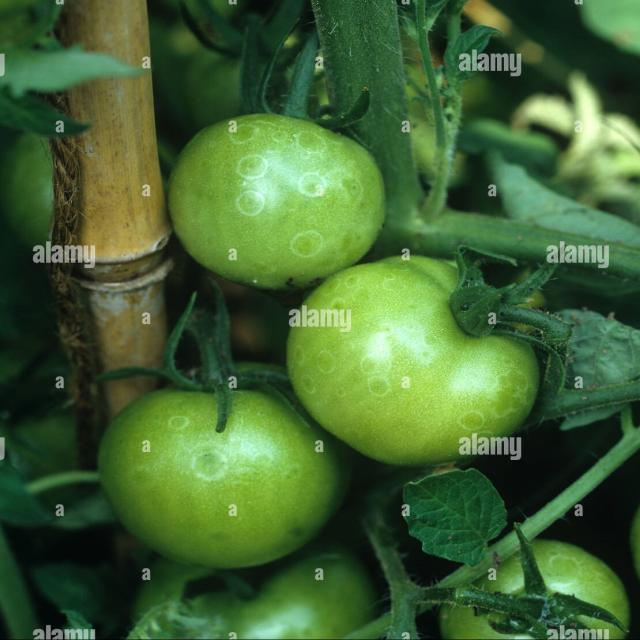kirmizi: (168, 97, 386, 280)
yesil: (280, 220, 522, 500), (81, 374, 334, 557), (171, 96, 398, 288)
